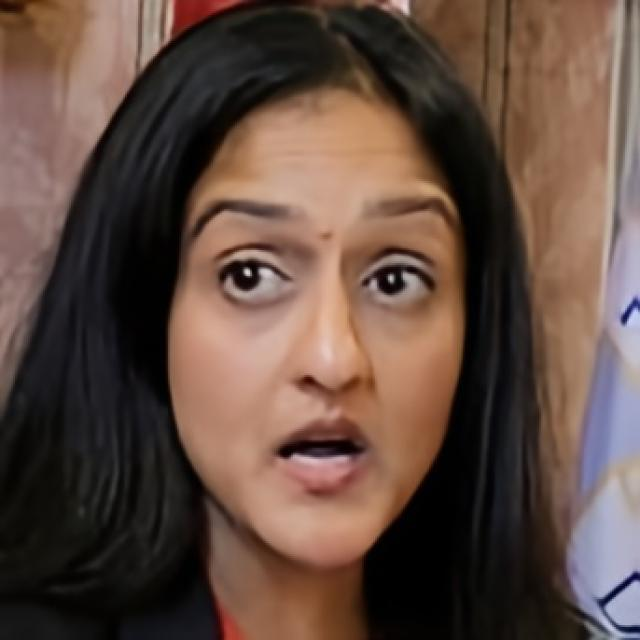surprise: (168, 75, 468, 568)
